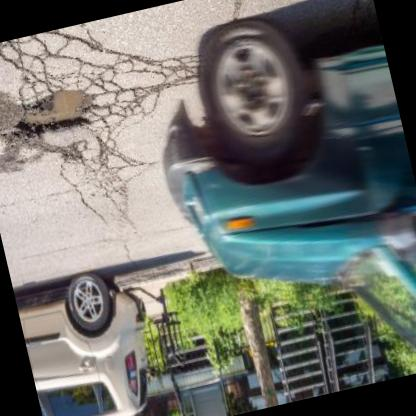pothole: (9, 86, 100, 144)
